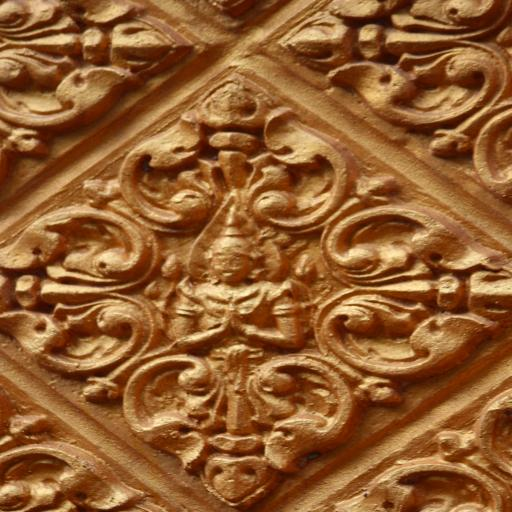hoa: (292, 0, 512, 184), (0, 0, 176, 180), (333, 374, 512, 512), (0, 373, 150, 512)
la: (130, 357, 350, 512), (328, 209, 512, 379), (132, 82, 342, 228), (0, 211, 157, 377)
than: (164, 216, 314, 452)
